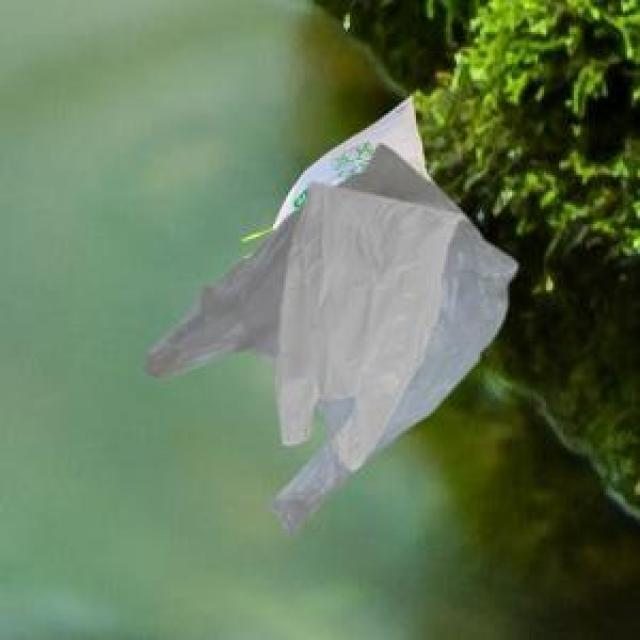waste: (148, 99, 518, 532)
